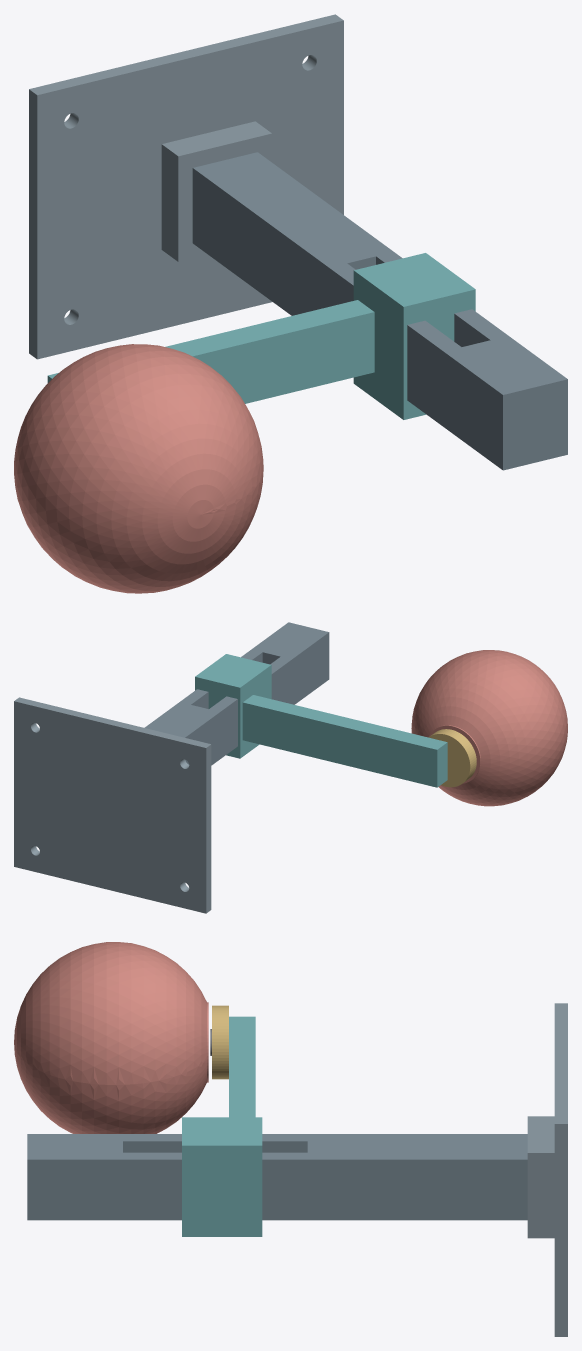
The model's file is 球靶概念总装_不可直接打印.glb.
The picture shows the model from 3 angles, top to bottom: view 1: azimuth 30°, elevation 25°; view 2: azimuth 150°, elevation 25°; view 3: azimuth 270°, elevation 25°; orthographic projection. The views are drawn at different scales.
Parts seen in each view (by area): view 1: 固定底座, 球壳, 后立柱, 悬臂与调高滑块; view 2: 固定底座, 球壳, 悬臂与调高滑块, 后立柱, 磁吸托座; view 3: 后立柱, 球壳, 悬臂与调高滑块, 固定底座, 磁吸托座.
Part boxes in pixels (bbox=[...]): 固定底座: bbox=[29, 14, 343, 359]; 球壳: bbox=[14, 344, 263, 593]; 后立柱: bbox=[192, 152, 567, 470]; 悬臂与调高滑块: bbox=[47, 253, 475, 419]; 固定底座: bbox=[14, 697, 211, 913]; 球壳: bbox=[411, 650, 567, 806]; 悬臂与调高滑块: bbox=[195, 654, 447, 787]; 后立柱: bbox=[144, 622, 329, 765]; 磁吸托座: bbox=[428, 729, 476, 787]; 后立柱: bbox=[27, 1134, 527, 1220]; 球壳: bbox=[14, 942, 208, 1133]; 悬臂与调高滑块: bbox=[182, 1016, 262, 1236]; 固定底座: bbox=[527, 1003, 567, 1336]; 磁吸托座: bbox=[212, 1005, 228, 1079].
Bounding box in the file's own units: 162 × 70 × 165.
